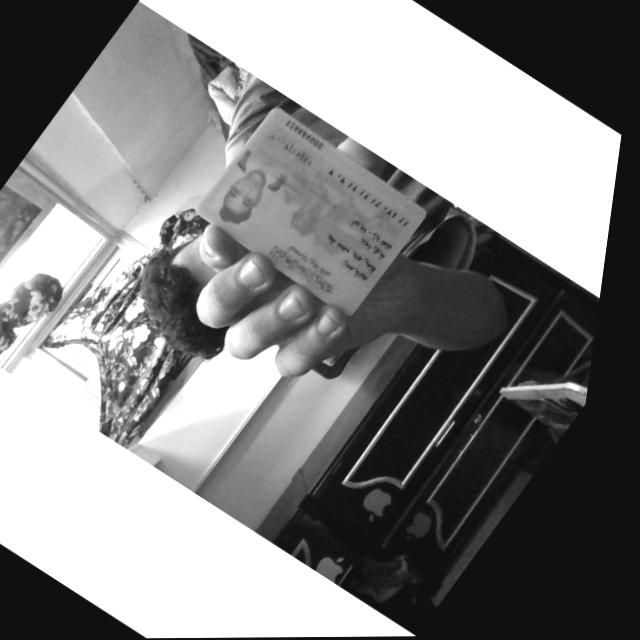id_card: (195, 106, 425, 313)
